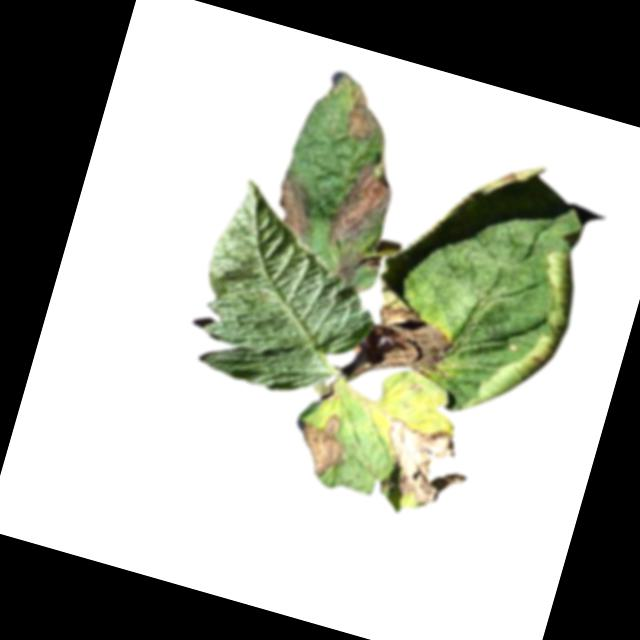Late_blight: (369, 409, 479, 511), (350, 292, 465, 388), (323, 148, 404, 258), (282, 404, 357, 482), (268, 169, 323, 241), (342, 81, 390, 144), (333, 244, 384, 290)
